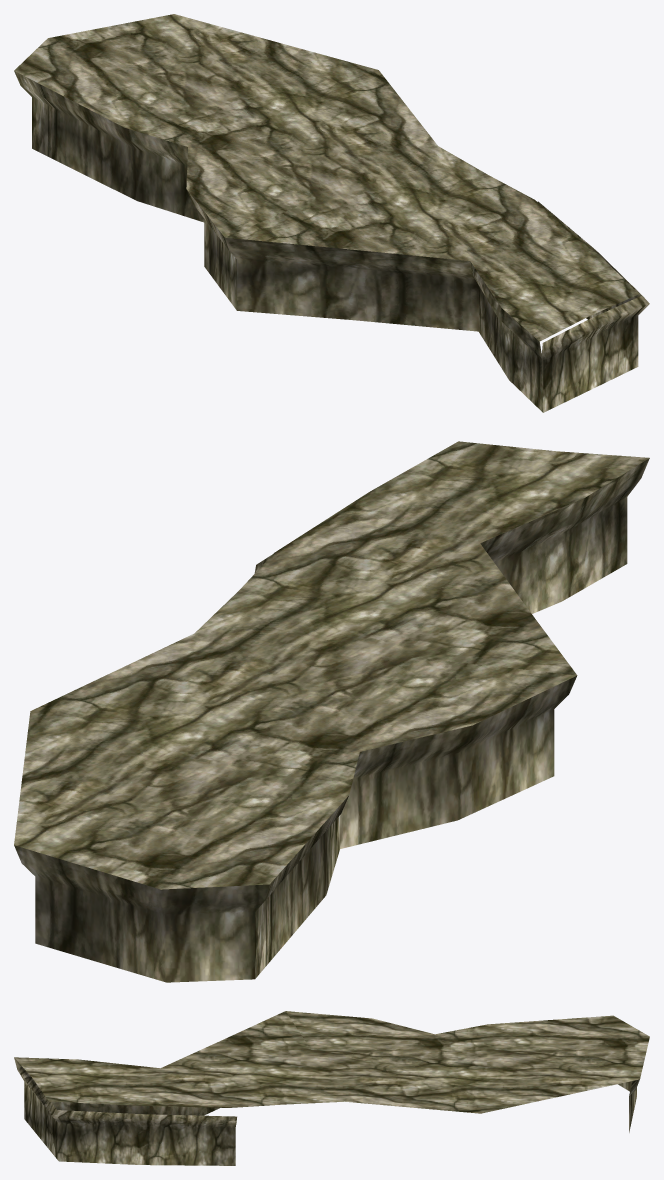
The model's file is CB_NEWPLAYSURFACE_CB_PLAYSURFACE100.fbx.
The picture shows the model from 3 angles, top to bottom: view 1: azimuth 30°, elevation 25°; view 2: azimuth 150°, elevation 25°; view 3: azimuth 270°, elevation 25°; orthographic projection. The views are drawn at different scales.
Parts seen in each view (by area): view 1: CB_NEWPLAYSURFACE_CB_PLAYSURFACE100; view 2: CB_NEWPLAYSURFACE_CB_PLAYSURFACE100; view 3: CB_NEWPLAYSURFACE_CB_PLAYSURFACE100.
Part boxes in pixels (box(x1,y1,x2,y2)): CB_NEWPLAYSURFACE_CB_PLAYSURFACE100: box(14, 14, 649, 412); CB_NEWPLAYSURFACE_CB_PLAYSURFACE100: box(14, 441, 649, 982); CB_NEWPLAYSURFACE_CB_PLAYSURFACE100: box(14, 1011, 649, 1165).
Bounding box in the file's own units: 109167 × 28693 × 285712.
Materials: 2 (2 with a texture image).
